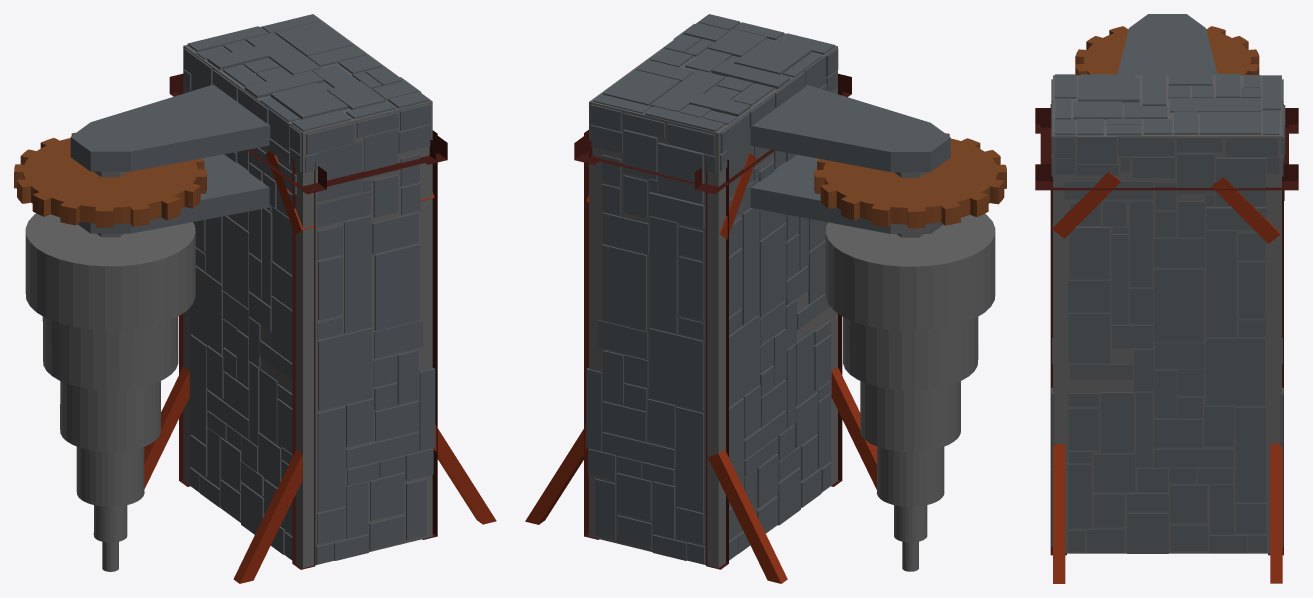
File: Extractor.obj
The picture shows the model from 3 angles, left to right: view 1: azimuth 30°, elevation 25°; view 2: azimuth 150°, elevation 25°; view 3: azimuth 270°, elevation 25°; orthographic projection. The views are drawn at different scales.
Parts seen in each view (by area): view 1: Support, Drill; view 2: Support, Drill; view 3: Support, Drill.
Part boxes in pixels (bbox=[...]): Support: bbox=[70, 14, 496, 583]; Drill: bbox=[14, 132, 206, 571]; Support: bbox=[525, 14, 950, 583]; Drill: bbox=[814, 133, 1006, 571]; Support: bbox=[1035, 14, 1298, 583]; Drill: bbox=[1075, 26, 1259, 75].
Bounding box in the file's own units: 3.39 × 3.56 × 1.97.
